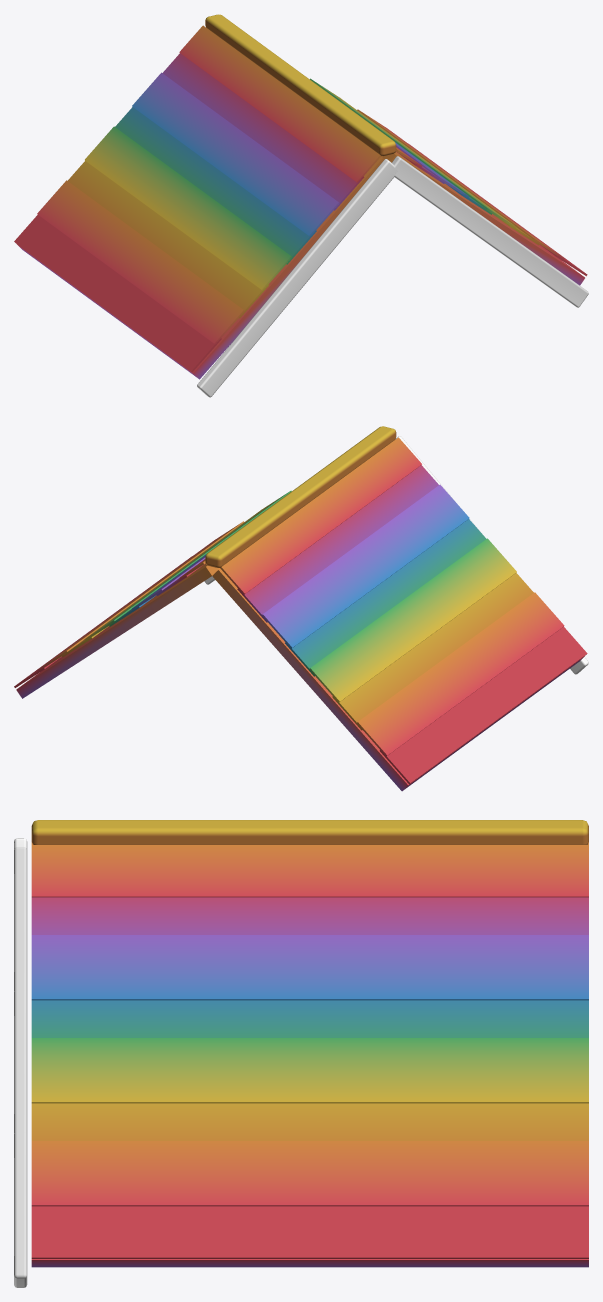
The model's file is house_roof_peaked_rainbow.glb.
The picture shows the model from 3 angles, top to bottom: view 1: azimuth 30°, elevation 25°; view 2: azimuth 150°, elevation 25°; view 3: azimuth 270°, elevation 25°; orthographic projection. The views are drawn at different scales.
Visible parts, largest first — view 1: house_roof_peaked_rainbow_house_roof_rainbow, house_roof_peaked_rainbow_house_trim; view 2: house_roof_peaked_rainbow_house_roof_rainbow; view 3: house_roof_peaked_rainbow_house_roof_rainbow, house_roof_peaked_rainbow_house_trim.
Part boxes in pixels (bbox=[...]): house_roof_peaked_rainbow_house_roof_rainbow: bbox=[14, 14, 587, 379]; house_roof_peaked_rainbow_house_trim: bbox=[197, 156, 588, 397]; house_roof_peaked_rainbow_house_roof_rainbow: bbox=[14, 426, 587, 791]; house_roof_peaked_rainbow_house_roof_rainbow: bbox=[31, 820, 588, 1267]; house_roof_peaked_rainbow_house_trim: bbox=[14, 838, 27, 1287].
Size of the model in its own units: 3.28 by 1.62 by 2.62.
